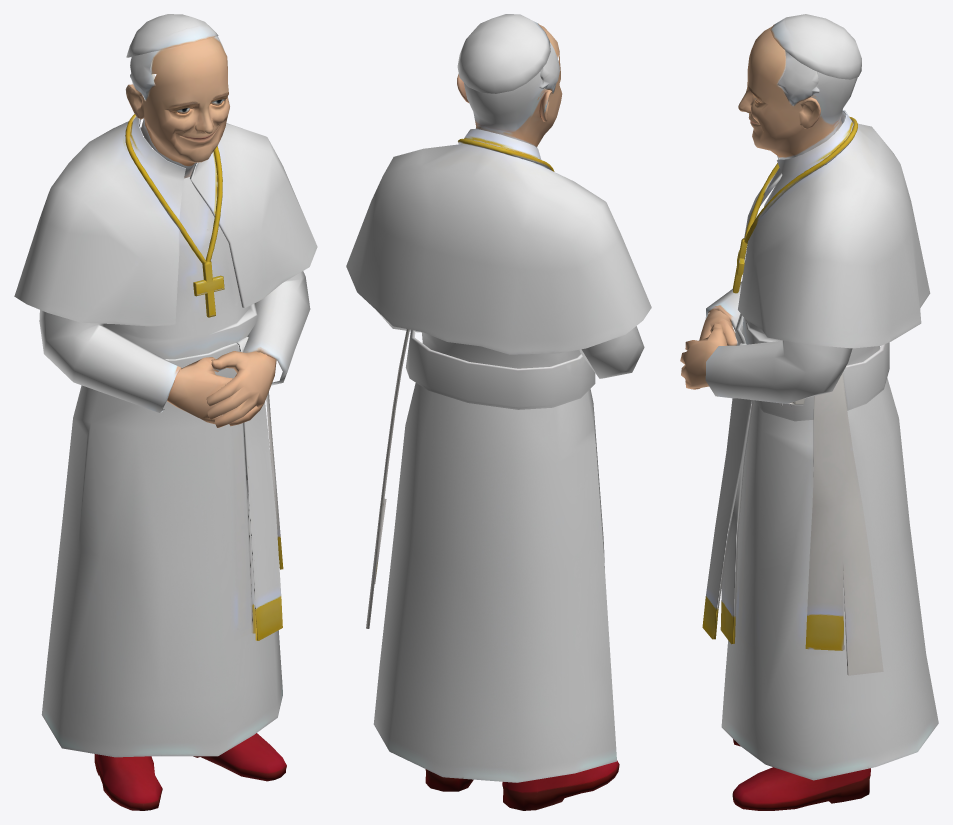
Rendered from papa.glb.
3 views of the same model, side by side, from view 1: azimuth 30°, elevation 25°; view 2: azimuth 150°, elevation 25°; view 3: azimuth 270°, elevation 25° (orthographic).
Parts seen in each view (by area): view 1: tripo_4b860a16_4da3_4586_8879_a15d4922151e; view 2: tripo_4b860a16_4da3_4586_8879_a15d4922151e; view 3: tripo_4b860a16_4da3_4586_8879_a15d4922151e.
Part boxes in pixels (x1,y1,x2,y2): tripo_4b860a16_4da3_4586_8879_a15d4922151e: (14,14,317,810); tripo_4b860a16_4da3_4586_8879_a15d4922151e: (346,14,651,810); tripo_4b860a16_4da3_4586_8879_a15d4922151e: (680,14,938,810).
Bounding box in the file's own units: 0.3931 × 0.9995 × 0.311.
Materials: 1 (1 with a texture image).
